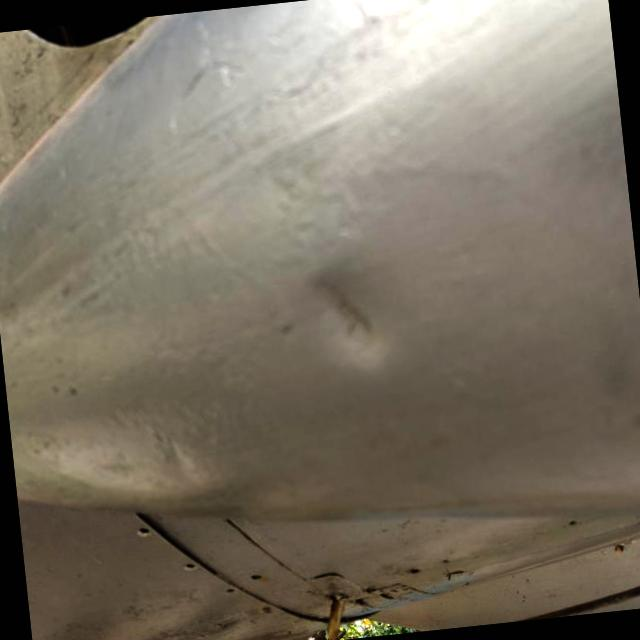dent: (272, 245, 418, 380)
